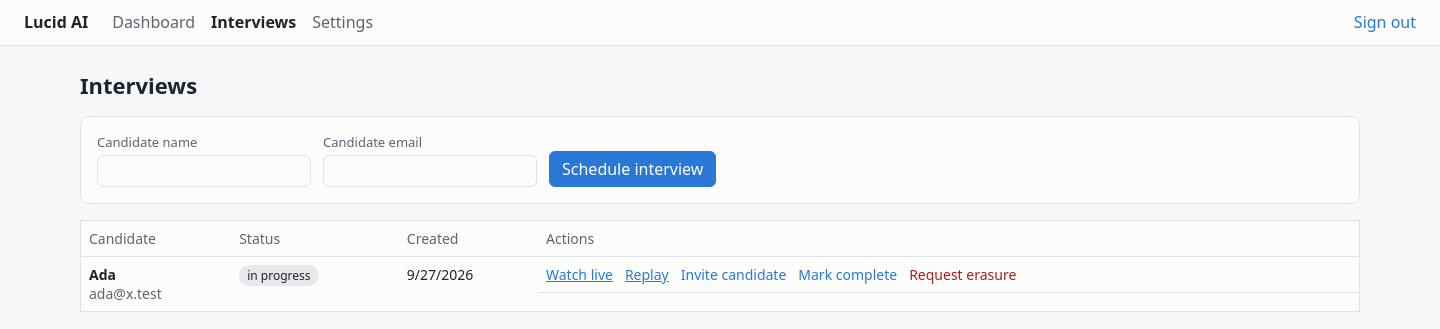
Test case: interviews › marks an interview complete
Click the button "Mark complete" at (848, 274), box top-left (798, 265), bottom-right (897, 284)
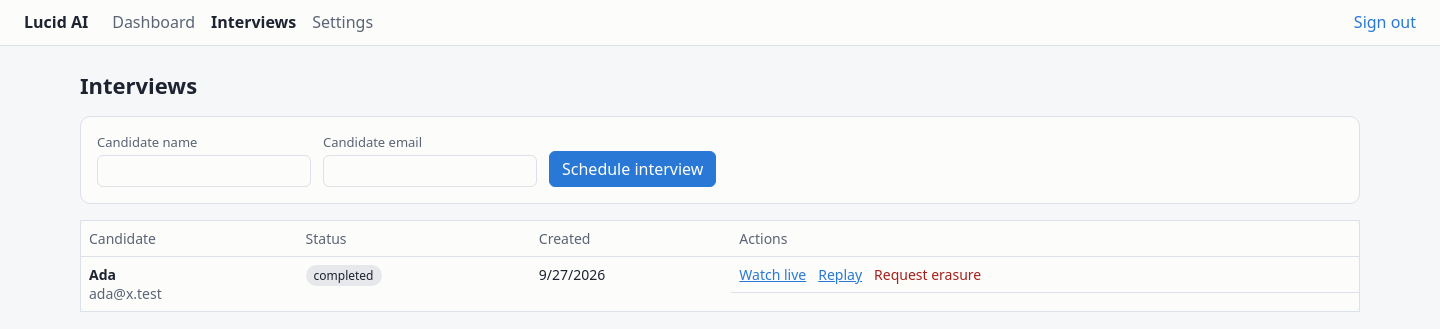
Now the text "completed" is shown, box top-left (306, 265), bottom-right (382, 286)
